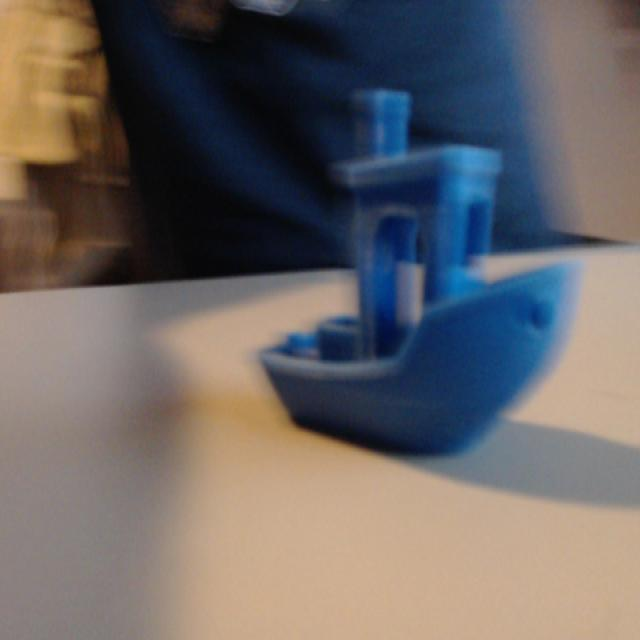benchy: (251, 77, 588, 467)
